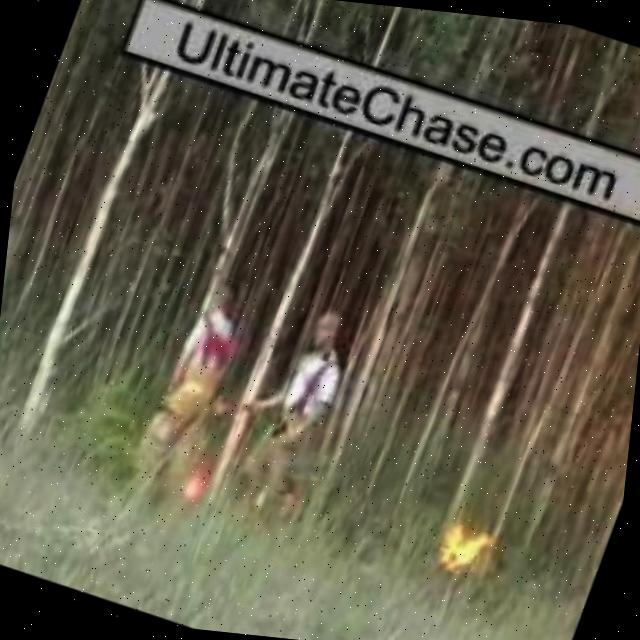fire: (433, 521, 503, 587), (177, 464, 217, 509)
